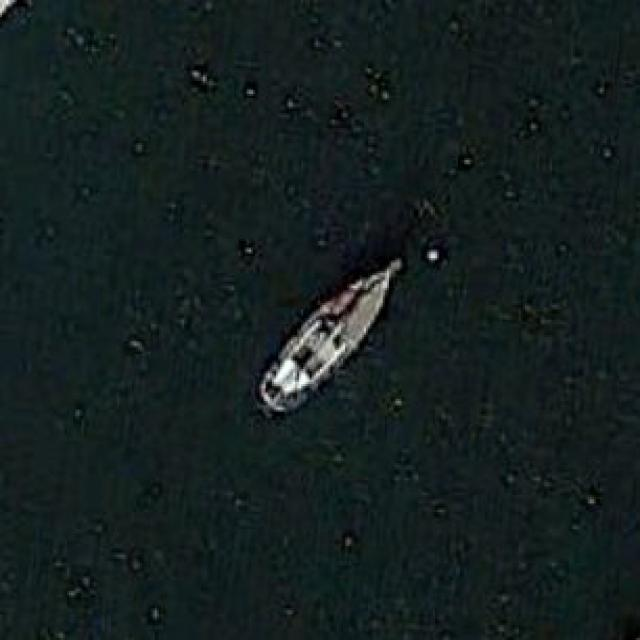boat: (255, 252, 404, 412)
